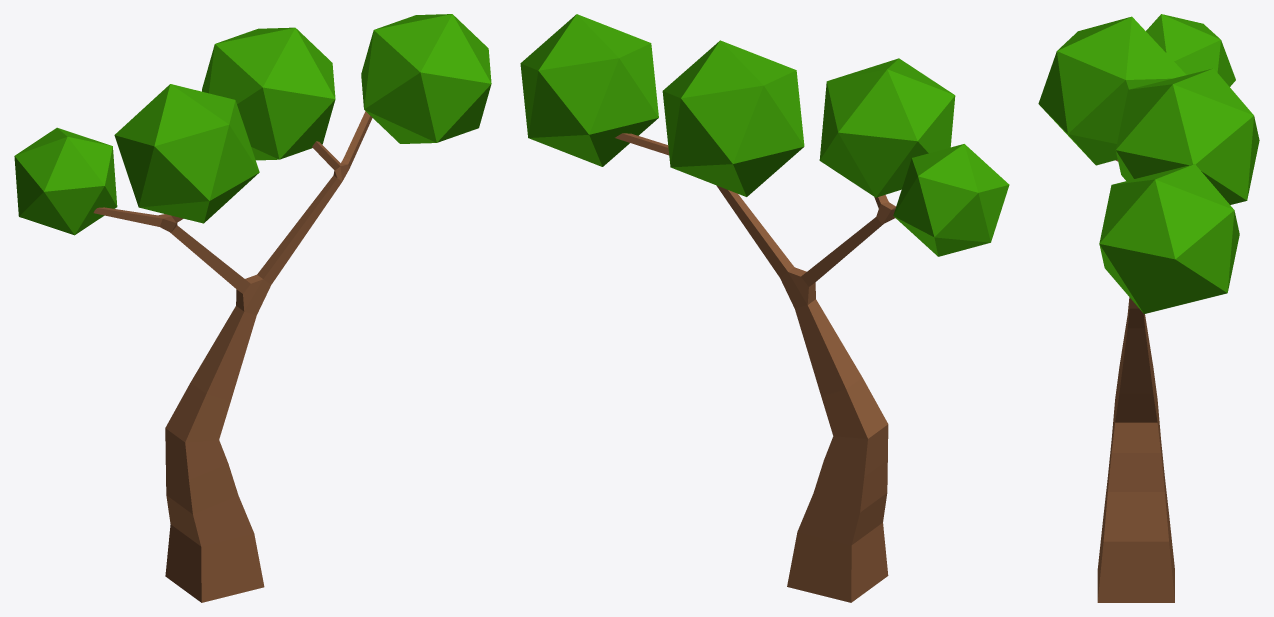
Rendered from medium-tree-1-transformed.glb.
3 views of the same model, side by side, from view 1: azimuth 30°, elevation 25°; view 2: azimuth 150°, elevation 25°; view 3: azimuth 270°, elevation 25° (orthographic). The views are drawn at different scales.
Parts seen in each view (by area): view 1: Base, Leaves2, Leaves4, Leaves3, Leaves1; view 2: Base, Leaves3, Leaves4, Leaves2, Leaves1; view 3: Leaves4, Base, Leaves3, Leaves2, Leaves1.
Boxes of the visible parts, x1,y1,x2,y2 form: Base: [93, 111, 372, 602]; Leaves2: [114, 84, 259, 223]; Leaves4: [361, 14, 491, 143]; Leaves3: [202, 27, 335, 160]; Leaves1: [14, 127, 117, 235]; Base: [615, 133, 896, 602]; Leaves3: [662, 40, 804, 196]; Leaves4: [520, 14, 658, 166]; Leaves2: [819, 58, 955, 197]; Leaves1: [893, 144, 1009, 256]; Leaves4: [1099, 164, 1239, 313]; Base: [1097, 159, 1174, 602]; Leaves3: [1115, 68, 1259, 204]; Leaves2: [1038, 16, 1186, 165]; Leaves1: [1146, 14, 1235, 86].
Bounding box in the file's own units: 4.69 × 4.99 × 1.81.
